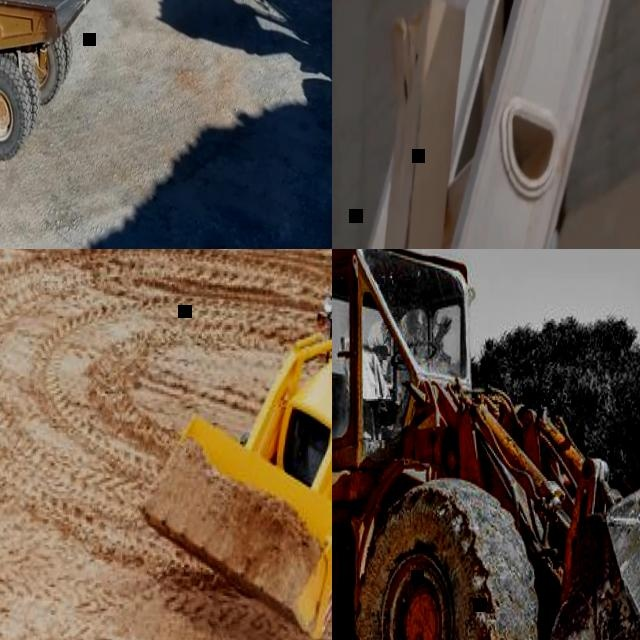machinery: (332, 249, 640, 640), (136, 249, 332, 640), (0, 0, 113, 170)
